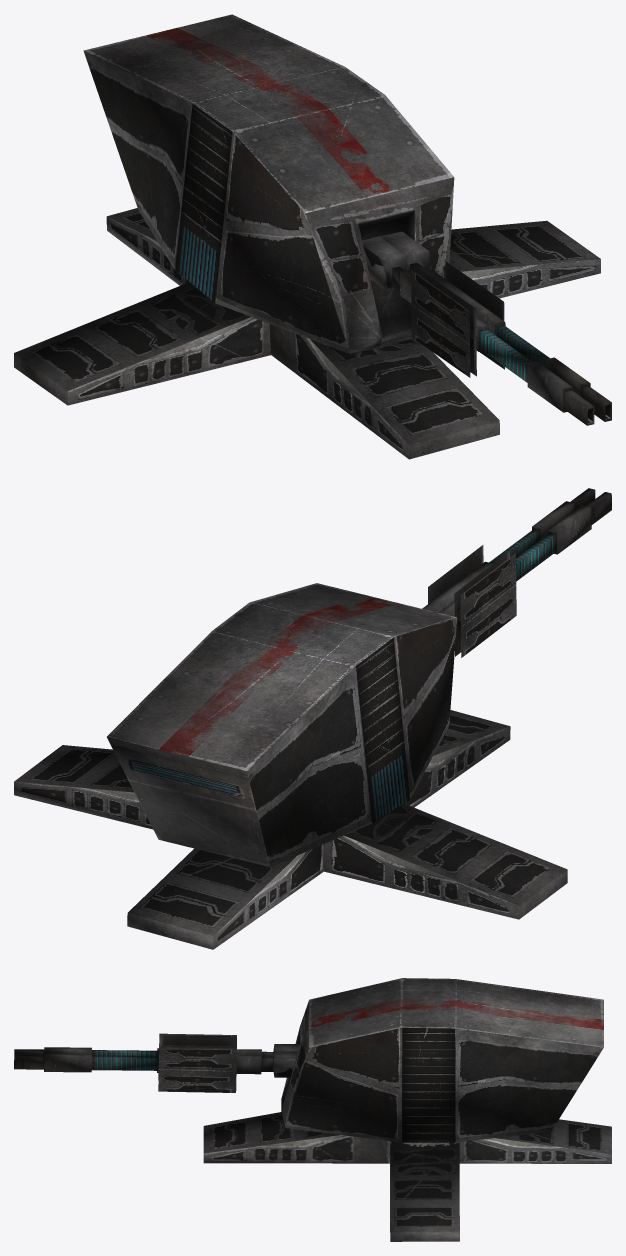
Rendered from anti_armoured_car_lod2.obj.
The picture shows the model from 3 angles, top to bottom: view 1: azimuth 30°, elevation 25°; view 2: azimuth 150°, elevation 25°; view 3: azimuth 270°, elevation 25°; orthographic projection. The views are drawn at different scales.
Parts seen in each view (by area): view 1: anti_armoured_car_lod2.obj; view 2: anti_armoured_car_lod2.obj; view 3: anti_armoured_car_lod2.obj.
Boxes of the visible parts, x1,y1,x2,y2 form: anti_armoured_car_lod2.obj: [14, 14, 611, 459]; anti_armoured_car_lod2.obj: [14, 488, 611, 949]; anti_armoured_car_lod2.obj: [14, 978, 611, 1241].
Bounding box in the file's own units: 1.87 × 0.751 × 2.73.
1 material, 1 textured.
